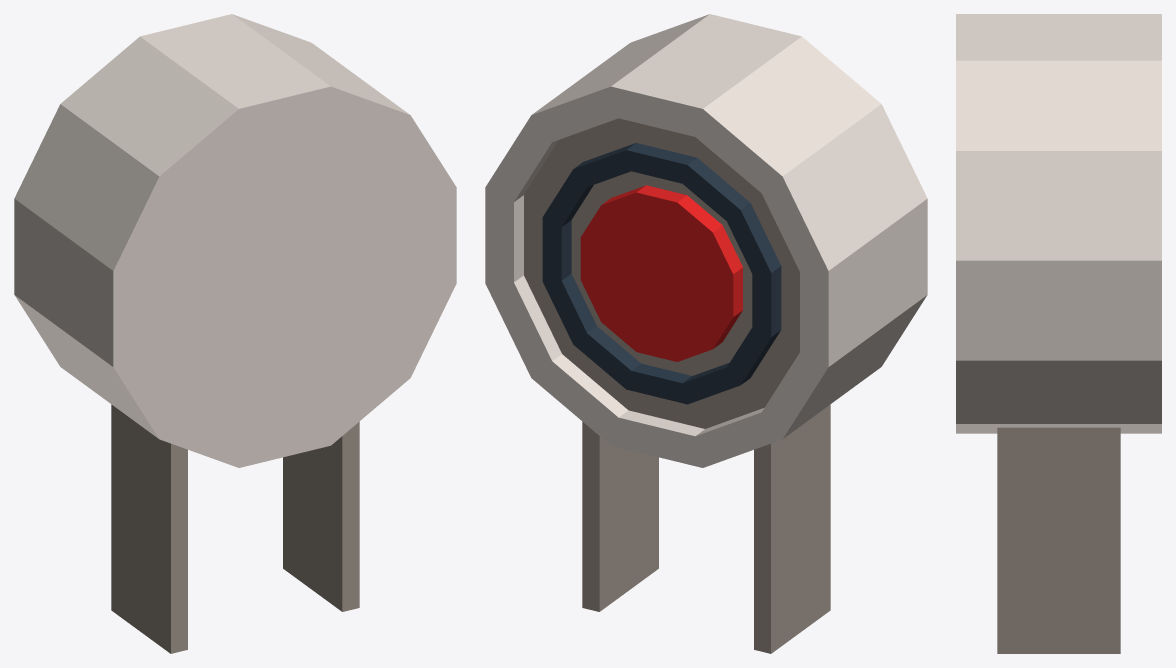
The model's file is target.gltf.
The picture shows the model from 3 angles, left to right: view 1: azimuth 30°, elevation 25°; view 2: azimuth 150°, elevation 25°; view 3: azimuth 270°, elevation 25°; orthographic projection. The views are drawn at different scales.
Visible parts, largest first — view 1: target-col, right, left; view 2: target-col, right, left; view 3: target-col, left.
Part boxes in pixels (left/top/right/bottom): target-col: left=14, top=14, right=456, bottom=467; right: left=111, top=404, right=187, bottom=653; left: left=283, top=421, right=359, bottom=611; target-col: left=485, top=14, right=927, bottom=467; right: left=754, top=404, right=830, bottom=653; left: left=582, top=421, right=658, bottom=611; target-col: left=956, top=14, right=1161, bottom=433; left: left=997, top=427, right=1120, bottom=653.
Bounding box in the file's own units: 4 × 6.1 × 2.
Materials: 2 (2 with a texture image).
